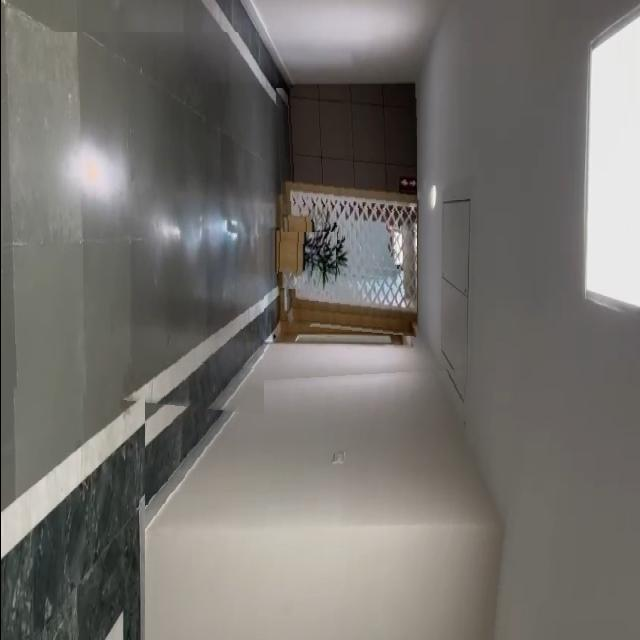door: (274, 89, 416, 338)
floor: (0, 32, 263, 415)
furniture: (277, 232, 336, 292)
wall: (144, 358, 640, 640)
